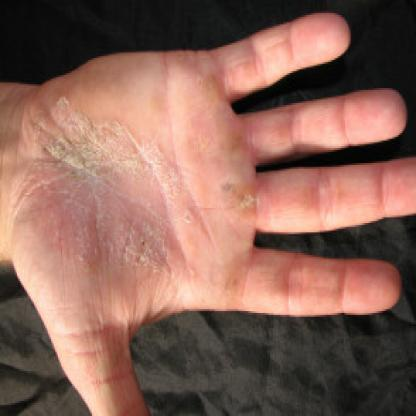Atopic Dermatitis: (37, 101, 101, 184), (124, 221, 176, 281)
